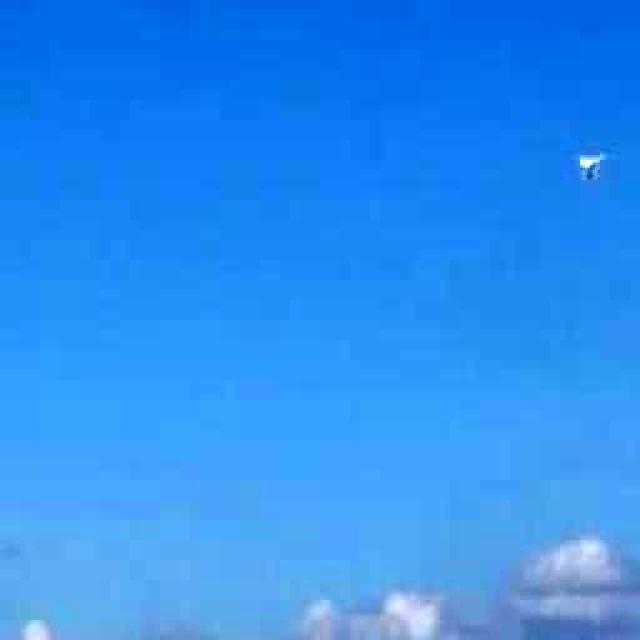bird: (562, 134, 615, 204)
